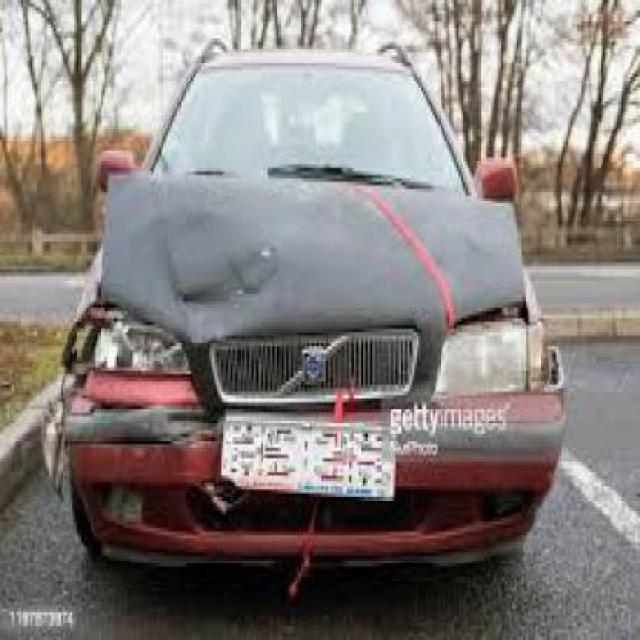damaged-front-bumper: (62, 394, 562, 568)
